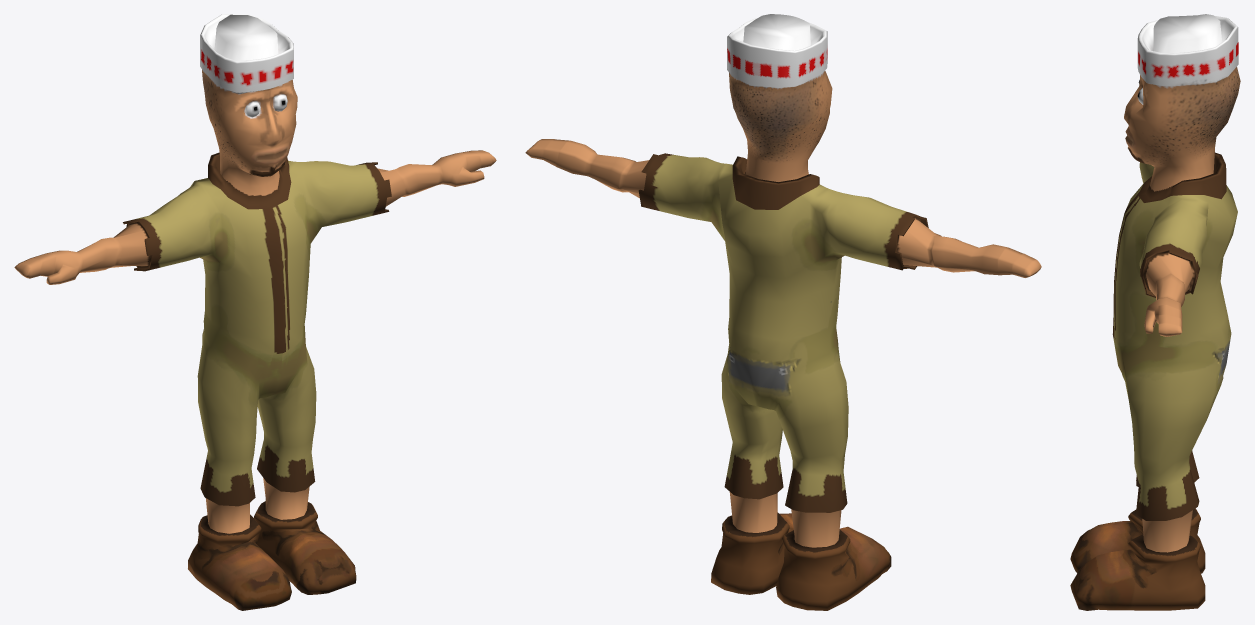
Rendered from Frier.fbx.
The picture shows the model from 3 angles, left to right: view 1: azimuth 30°, elevation 25°; view 2: azimuth 150°, elevation 25°; view 3: azimuth 270°, elevation 25°; orthographic projection. The views are drawn at different scales.
Parts seen in each view (by area): view 1: Mesh; view 2: Mesh; view 3: Mesh.
Boxes of the visible parts, x1=… form: Mesh: x1=14, y1=14, x2=496, y2=610; Mesh: x1=525, y1=14, x2=1041, y2=610; Mesh: x1=1070, y1=14, x2=1240, y2=610.
Bounding box in the file's own units: 23.07 × 25.02 × 6.89.
